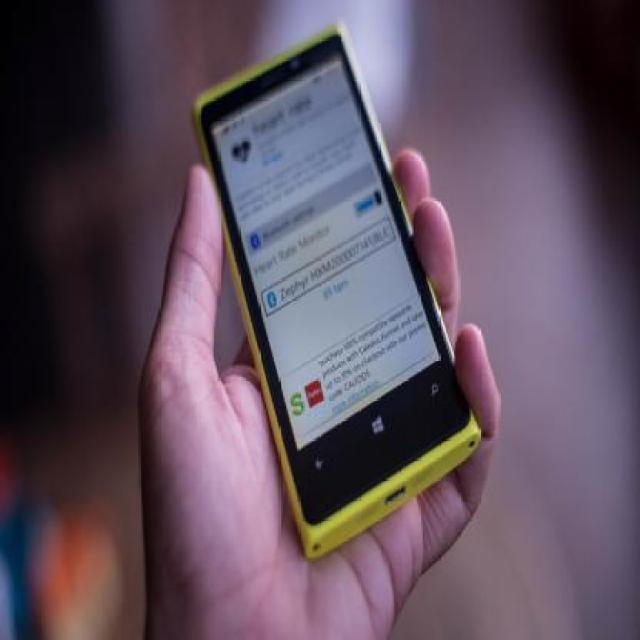phone: (192, 27, 476, 550)
